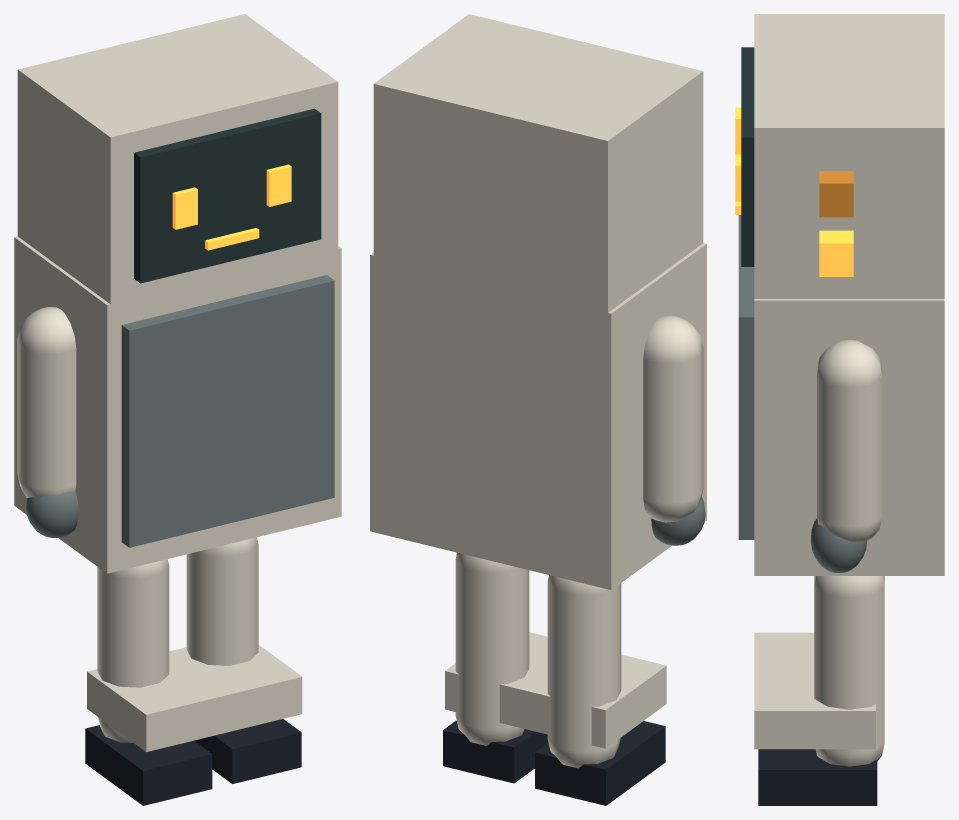
Rendered from profile-nerby.glb.
The picture shows the model from 3 angles, left to right: view 1: azimuth 30°, elevation 25°; view 2: azimuth 150°, elevation 25°; view 3: azimuth 270°, elevation 25°; orthographic projection. The views are drawn at different scales.
Visible parts, largest first — view 1: robot-head, front-panel, robot-body, display, keyboard, left-sleeve, left-leg-mesh, right-leg-mesh, left-shoe, right-shoe, left-hand-mesh, pixel-eye (×2) (+1 smaller); view 2: robot-body, robot-head, left-leg-mesh, right-leg-mesh, left-sleeve, keyboard, left-shoe, right-shoe, left-hand-mesh; view 3: robot-head, robot-body, right-sleeve, right-leg-mesh, keyboard, right-shoe, front-panel, display, right-hand-mesh, orange-button, status-button.
Boxes of the visible parts, x1,y1,x2,y2 form: robot-head: (17, 14, 338, 314); front-panel: (121, 275, 334, 547); robot-body: (14, 236, 341, 573); display: (134, 108, 321, 283); keyboard: (87, 645, 302, 752); left-sleeve: (17, 307, 76, 497); left-leg-mesh: (97, 559, 169, 742); right-leg-mesh: (186, 537, 258, 665); left-shoe: (85, 725, 212, 805); right-shoe: (194, 719, 301, 783); left-hand-mesh: (26, 491, 78, 537); pixel-eye (×2): (172, 164, 291, 229); robot-body: (370, 243, 706, 589); robot-head: (373, 14, 703, 323); left-leg-mesh: (547, 575, 621, 768); right-leg-mesh: (455, 552, 529, 745); left-sleeve: (643, 315, 703, 522); keyboard: (445, 632, 666, 748); left-shoe: (535, 721, 665, 805); right-shoe: (443, 720, 548, 783); left-hand-mesh: (651, 497, 705, 545); robot-head: (754, 14, 944, 298); robot-body: (754, 299, 944, 575); right-sleeve: (817, 340, 882, 543); right-leg-mesh: (814, 576, 884, 766); keyboard: (754, 632, 875, 749); right-shoe: (758, 749, 877, 805); front-panel: (738, 215, 754, 539); display: (741, 47, 754, 266); right-hand-mesh: (811, 518, 866, 572); orange-button: (819, 171, 853, 217); status-button: (819, 230, 853, 276).
Size of the model in its own units: 1.4 by 2.9 by 0.7925.
